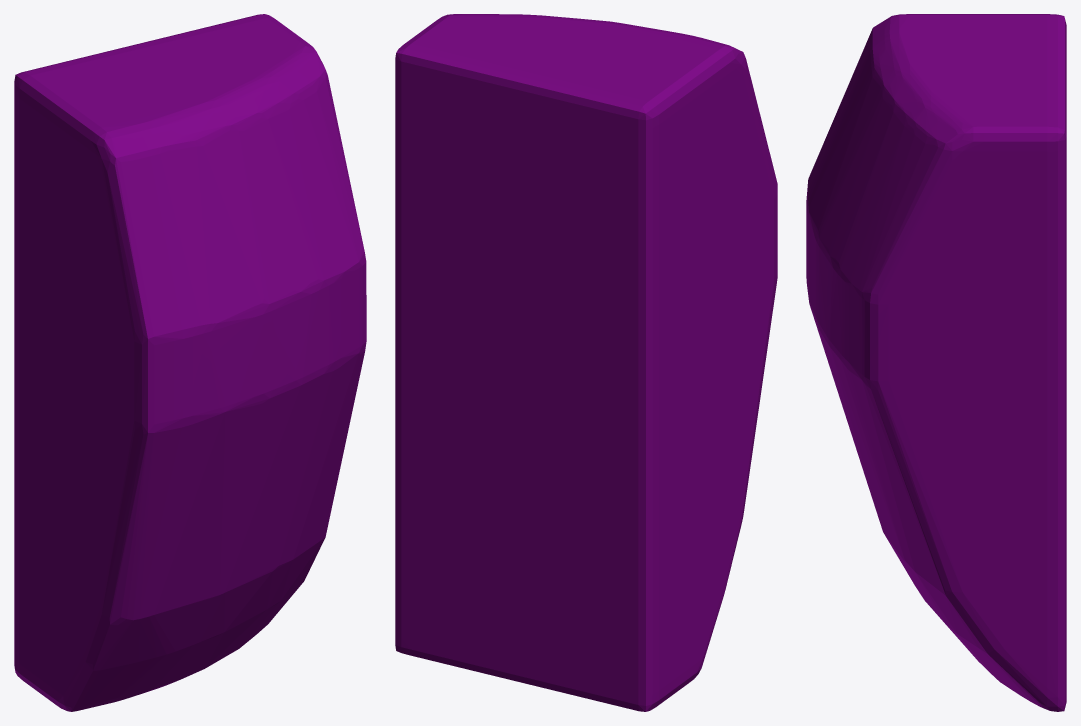
File: left_hip_roll_link_part_11.obj
3 views of the same model, side by side, from view 1: azimuth 30°, elevation 25°; view 2: azimuth 150°, elevation 25°; view 3: azimuth 270°, elevation 25° (orthographic). The views are drawn at different scales.
Size of the model in its own units: 0.0336 by 0.0752 by 0.0303.
